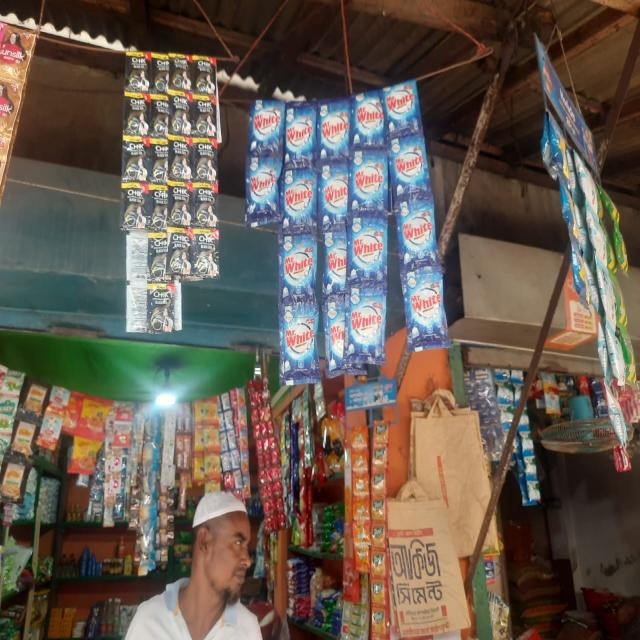non-ubl: (345, 278, 387, 370), (403, 262, 446, 348), (345, 210, 386, 295), (280, 302, 319, 385), (395, 188, 437, 259), (349, 149, 389, 220), (389, 130, 427, 203), (279, 231, 319, 299), (280, 165, 318, 234), (246, 98, 285, 165), (246, 156, 282, 228), (315, 160, 349, 234), (320, 291, 348, 377), (283, 100, 318, 168), (381, 80, 419, 140), (317, 97, 351, 164), (351, 88, 387, 150), (319, 225, 347, 290), (121, 143, 154, 192), (146, 284, 178, 332), (191, 228, 218, 278), (183, 94, 214, 137), (122, 90, 152, 134), (121, 186, 152, 228), (146, 231, 170, 285), (123, 51, 151, 95), (166, 228, 190, 275), (192, 56, 216, 100), (167, 89, 192, 131), (168, 182, 194, 222), (191, 182, 217, 219), (192, 132, 216, 172), (150, 54, 174, 94), (149, 141, 171, 183), (169, 56, 193, 94), (149, 182, 170, 221), (169, 138, 193, 171), (151, 108, 172, 138)
